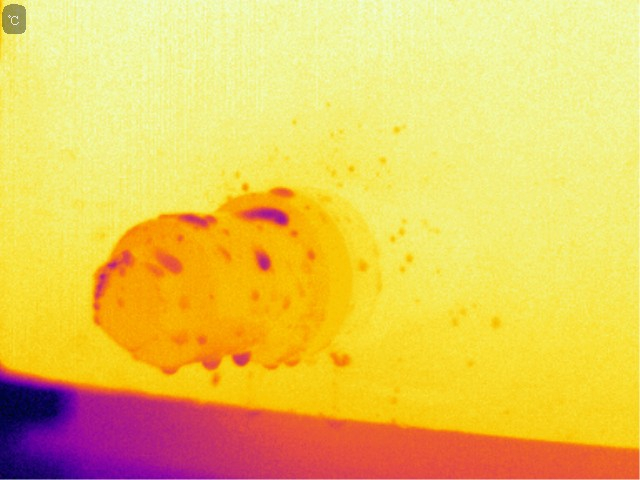Water: (230, 206, 293, 227), (150, 249, 187, 275), (174, 213, 224, 232), (251, 246, 277, 276), (167, 332, 213, 348), (196, 349, 225, 372), (327, 351, 358, 370), (140, 260, 163, 282), (268, 184, 296, 201), (229, 348, 251, 369), (482, 310, 502, 331), (259, 358, 281, 376), (285, 353, 302, 376), (390, 120, 416, 135), (157, 362, 181, 377), (356, 255, 374, 275), (244, 289, 266, 302), (210, 372, 228, 387), (304, 246, 323, 260), (403, 250, 418, 266), (240, 181, 252, 193)
